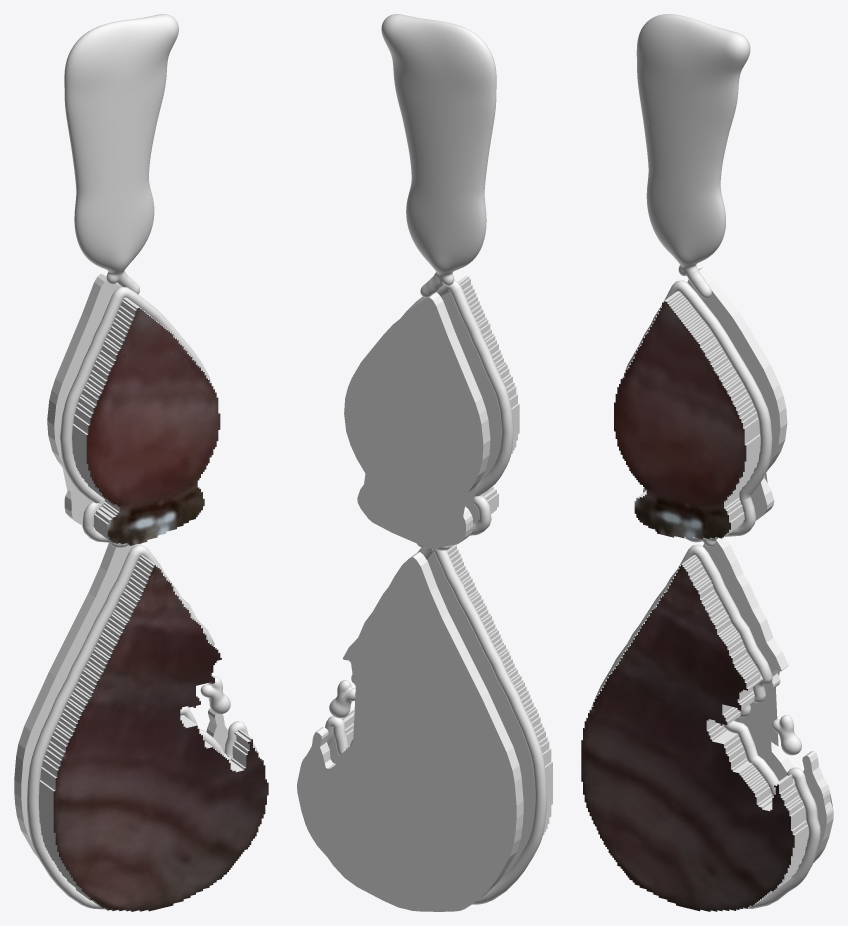
3 renders of one model, left to right at view 1: azimuth 30°, elevation 25°; view 2: azimuth 150°, elevation 25°; view 3: azimuth 330°, elevation 25°, orthographic.
Parts seen in each view (by area): view 1: joya; view 2: joya; view 3: joya.
Boxes of the visible parts, x1,y1,x2,y2 form: joya: (14, 14, 268, 911); joya: (297, 14, 552, 911); joya: (581, 14, 833, 911).
Bounding box in the file's own units: 0.0116 × 0.042 × 0.00325.
Materials: 3 (1 with a texture image).
